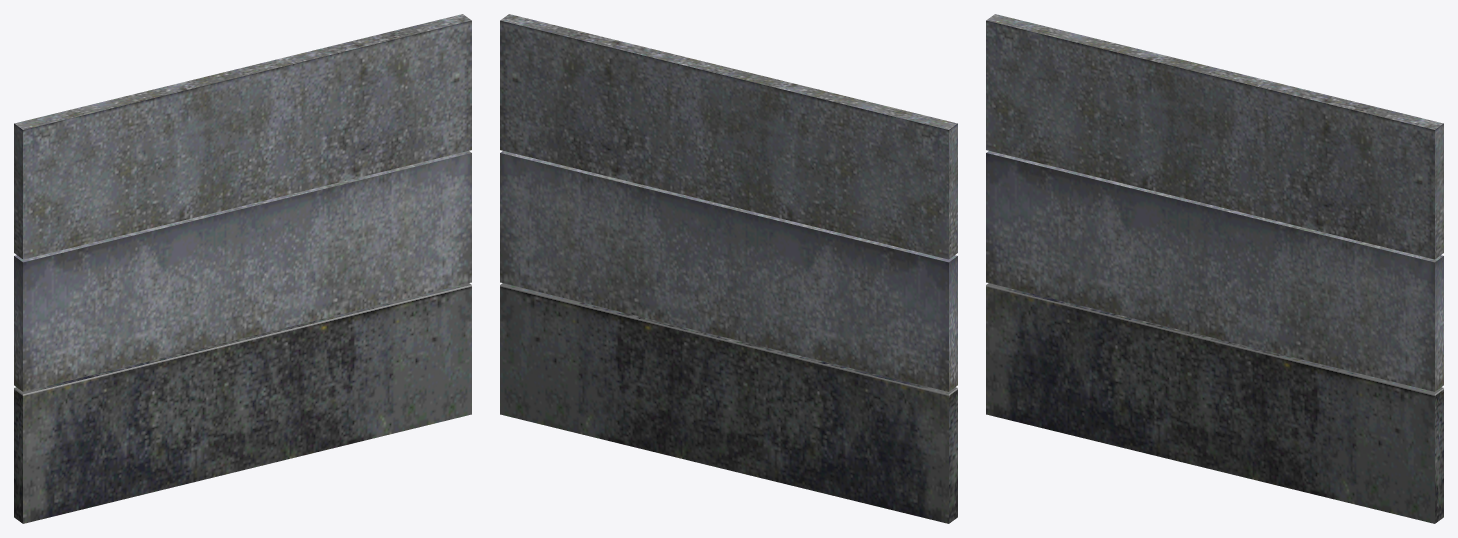
The model's file is Urban_PlackardSlabFull_Model.fbx.
3 renders of one model, left to right at view 1: azimuth 30°, elevation 25°; view 2: azimuth 150°, elevation 25°; view 3: azimuth 330°, elevation 25°, orthographic.
Visible parts, largest first — view 1: Urban_PlackardSlabFull_Mesh; view 2: Urban_PlackardSlabFull_Mesh; view 3: Urban_PlackardSlabFull_Mesh.
Boxes of the visible parts, x1,y1,x2,y2 form: Urban_PlackardSlabFull_Mesh: [14, 14, 471, 523]; Urban_PlackardSlabFull_Mesh: [500, 14, 957, 523]; Urban_PlackardSlabFull_Mesh: [986, 14, 1443, 523].
Size of the model in its own units: 2.9 by 2.43 by 0.1.
